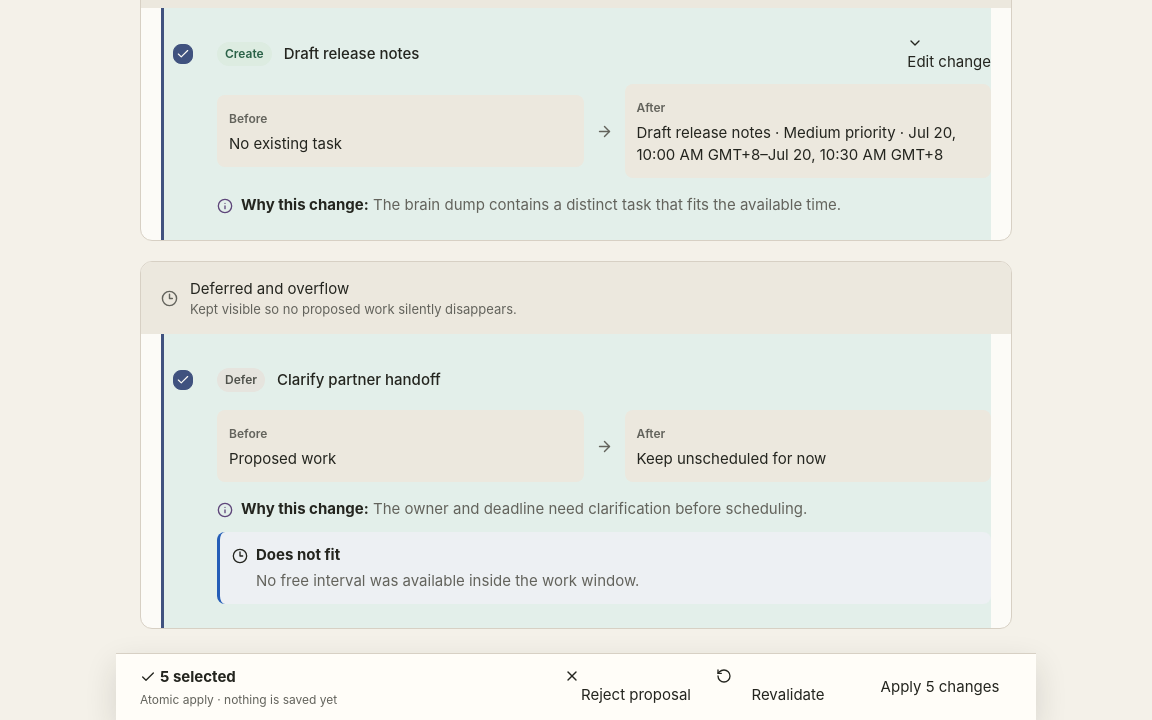
Test: Assistant planner Review › deselects every action type, including a visible defer action
(page scrolled)
Click the checkbox named "Select defer action for Clarify partner handoff" at (183, 380), box left=161, top=358, right=205, bottom=402
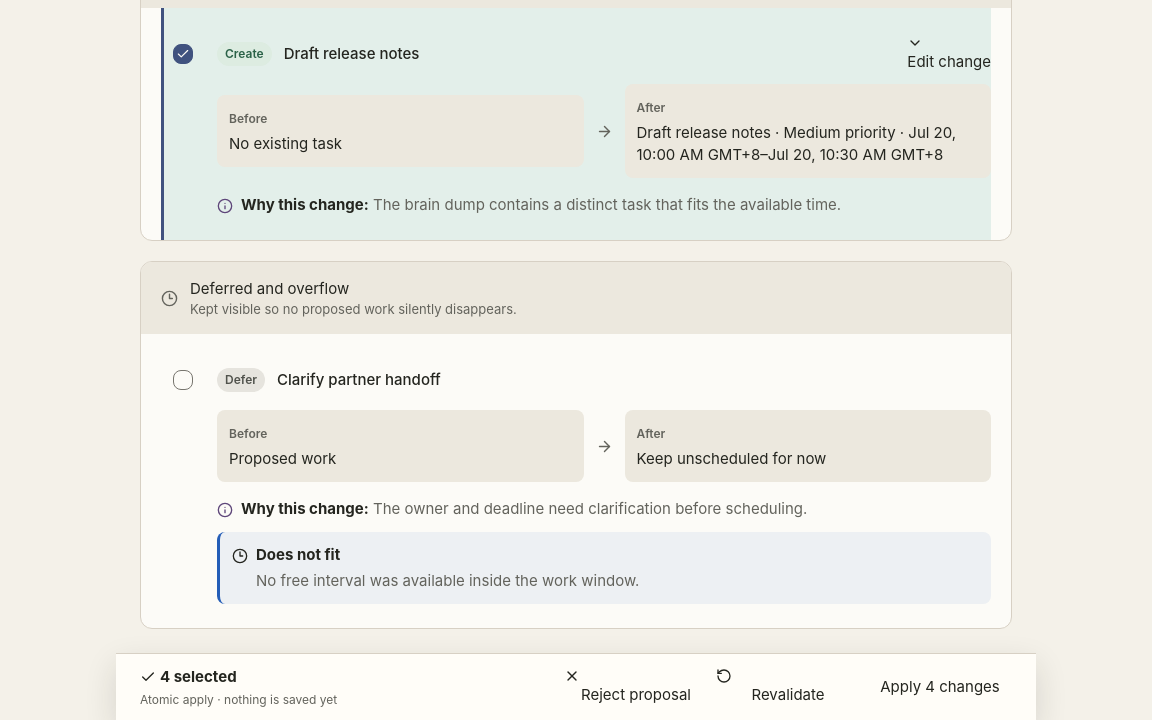
Now the button "Apply 4 changes" is shown, box left=868, top=676, right=1012, bottom=698
